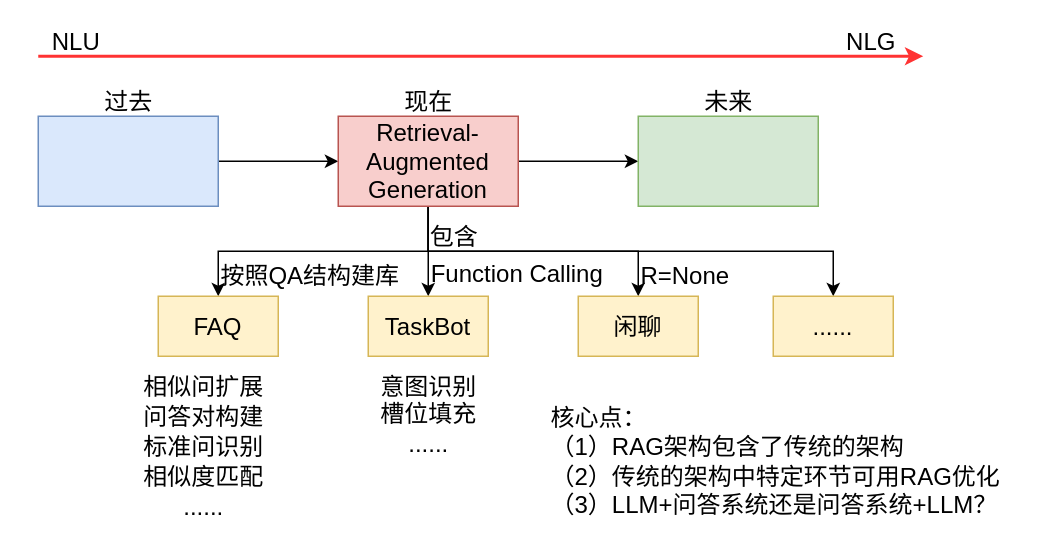
Image size: 1053x546. Some labels were removed from this diagram. Each missing label, with the box of its shape:
Generation: (637, 115, 818, 206)
Retrieval: (37, 115, 218, 206)
